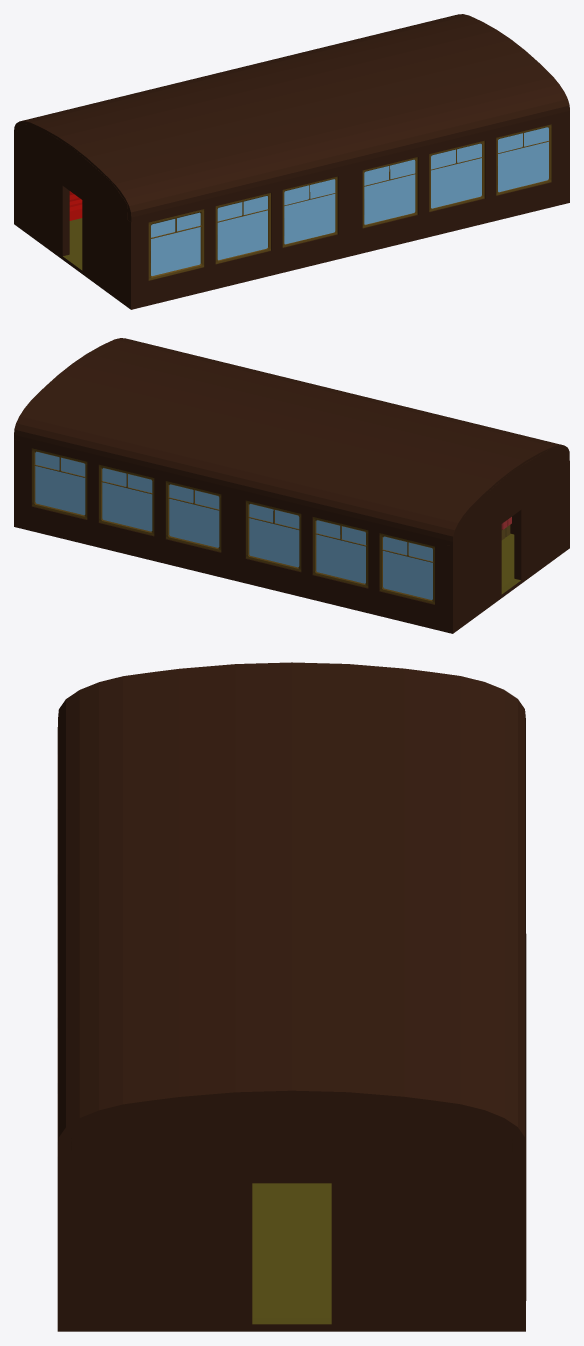
Rendered from SeatWagon.fbx.
The picture shows the model from 3 angles, top to bottom: view 1: azimuth 30°, elevation 25°; view 2: azimuth 150°, elevation 25°; view 3: azimuth 270°, elevation 25°; orthographic projection. The views are drawn at different scales.
Visible parts, largest first — view 1: Wagon, WindowGlass.008, WindowGlass.009, WindowGlass.011, WindowGlass.010, WindowGlass.007, WindowGlass.006; view 2: Wagon, WindowGlass.004, WindowGlass.005, WindowGlass.003, WindowGlass.002, WindowGlass, WindowGlass.001; view 3: Wagon.
Part boxes in pixels (box(x1,y1,x2,y2)): Wagon: box(14, 14, 569, 309); WindowGlass.008: box(284, 179, 335, 244); WindowGlass.009: box(364, 159, 415, 224); WindowGlass.011: box(498, 127, 548, 192); WindowGlass.010: box(431, 143, 481, 208); WindowGlass.007: box(217, 196, 267, 260); WindowGlass.006: box(151, 212, 200, 275); Wagon: box(14, 338, 569, 633); WindowGlass.004: box(102, 468, 152, 531); WindowGlass.005: box(35, 451, 85, 515); WindowGlass.003: box(169, 484, 219, 547); WindowGlass.002: box(249, 504, 299, 567); WindowGlass: box(383, 536, 432, 599); WindowGlass.001: box(316, 520, 365, 583); Wagon: box(57, 662, 526, 1331).
Bounding box in the file's own units: 2804 × 1591 × 6066.
